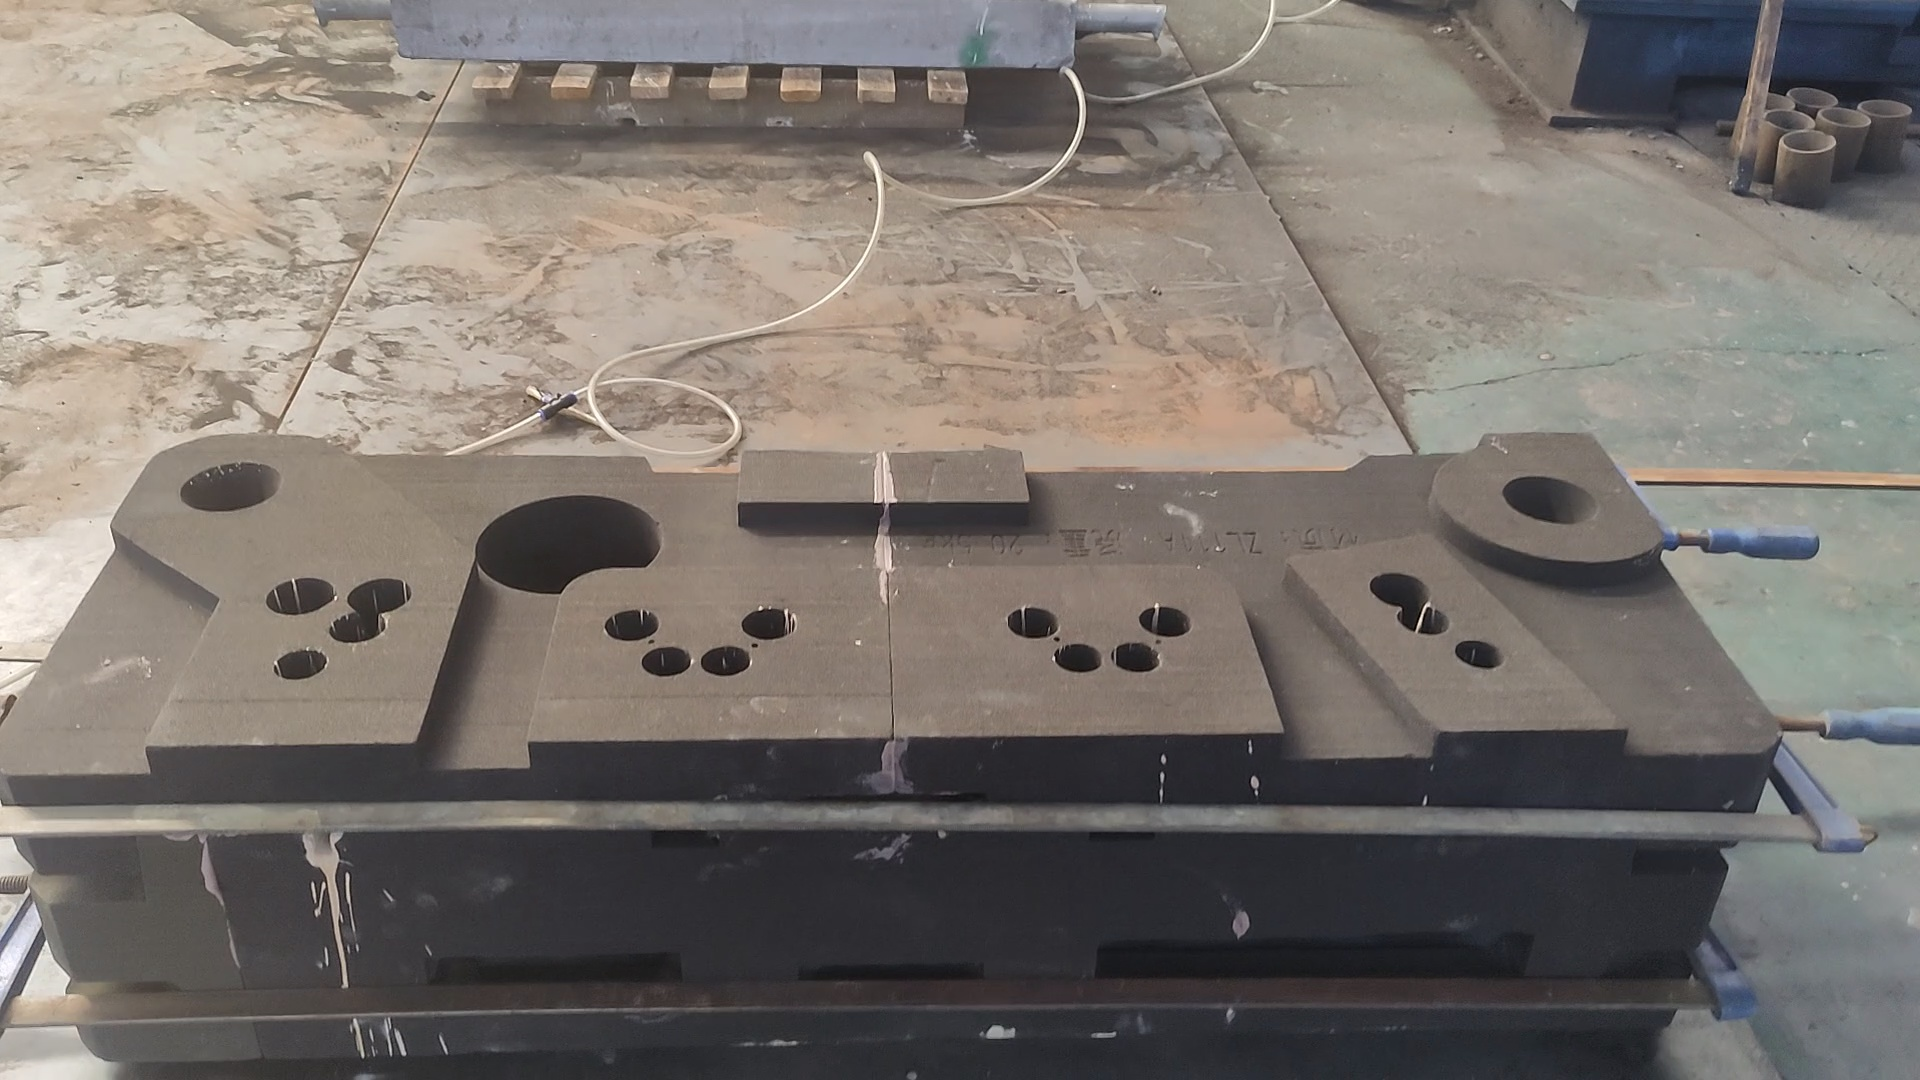pouring hole: (178, 462, 281, 513), (1502, 475, 1600, 525), (1742, 90, 1795, 111), (1783, 131, 1836, 152), (1764, 109, 1813, 131), (1820, 107, 1871, 127), (1789, 87, 1840, 107), (1859, 98, 1912, 116)
